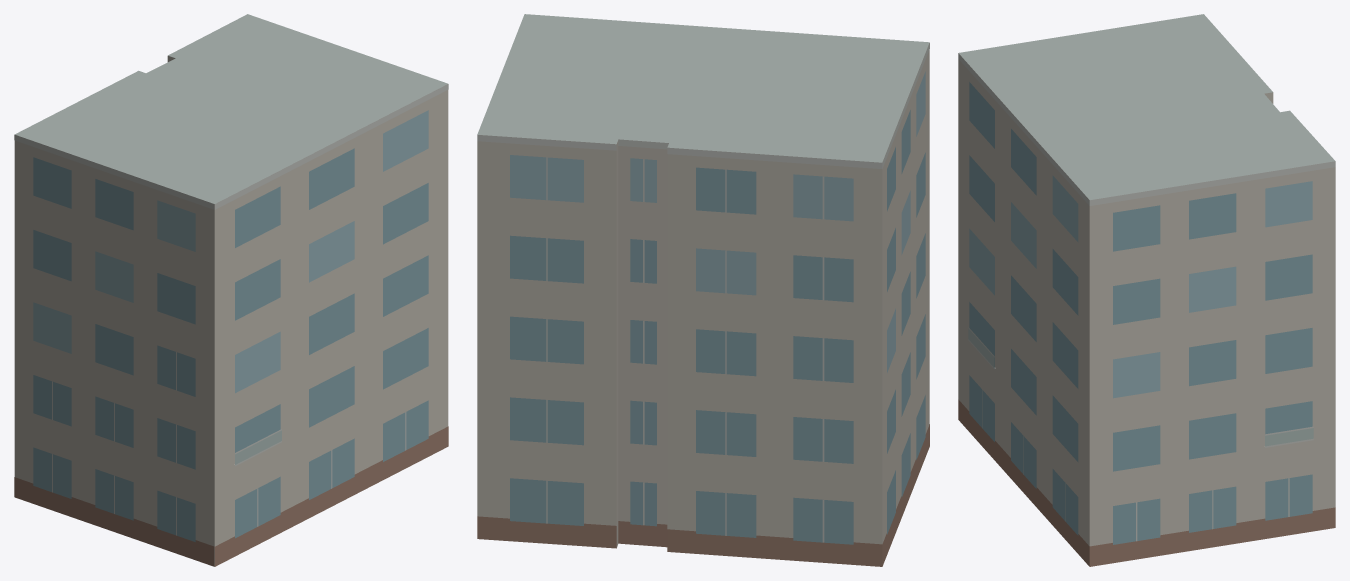
File: survey-upis-32862042.glb
3 views of the same model, side by side, from view 1: azimuth 30°, elevation 25°; view 2: azimuth 150°, elevation 25°; view 3: azimuth 270°, elevation 25° (orthographic). The views are drawn at different scales.
Parts seen in each view (by area): view 1: survey-upis-32862042.tmp; view 2: survey-upis-32862042.tmp; view 3: survey-upis-32862042.tmp.
Part boxes in pixels (<box>): survey-upis-32862042.tmp: <box>14,14,448,566</box>; survey-upis-32862042.tmp: <box>477,14,929,566</box>; survey-upis-32862042.tmp: <box>958,14,1335,566</box>.
Size of the model in its own units: 16.62 by 15.25 by 14.23.
